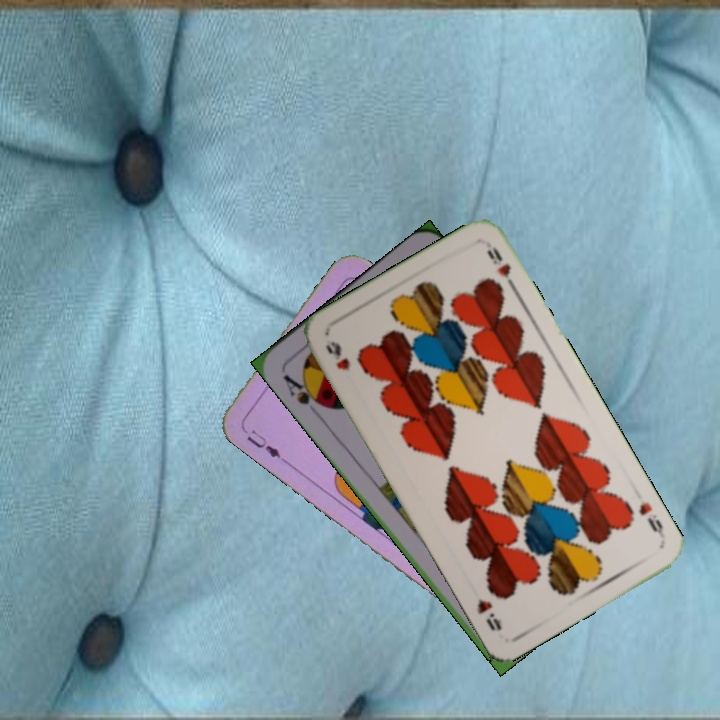EU: (237, 423, 288, 463)
H9: (635, 498, 668, 541), (321, 337, 353, 374)
SA: (279, 369, 329, 410)
